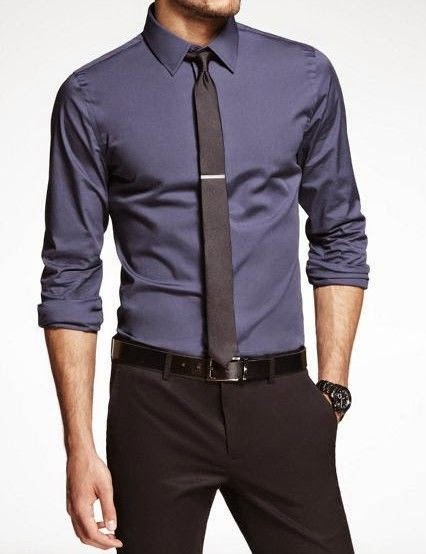tie: (179, 48, 251, 371)
